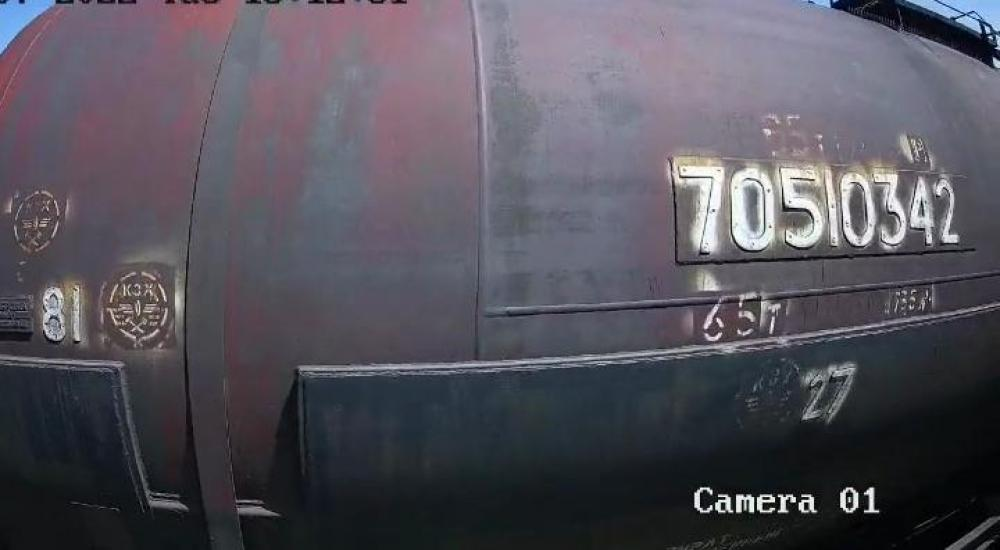Wagon-number: (676, 158, 964, 256)
